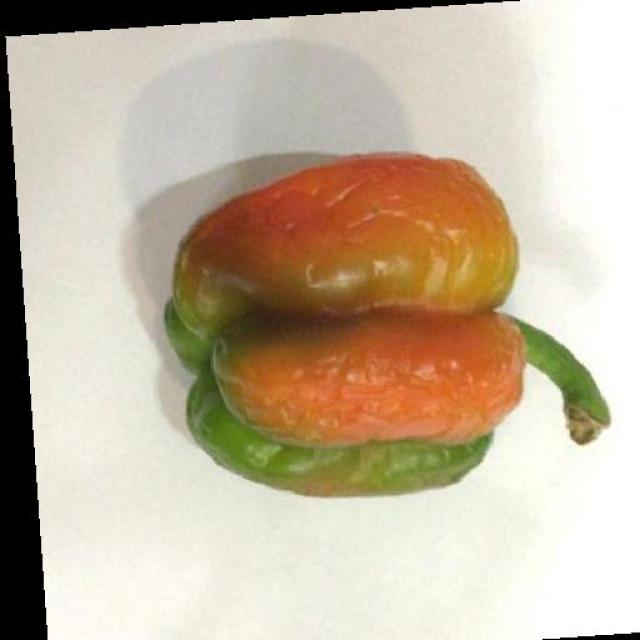Stale_Capsicum: (152, 136, 532, 550)
